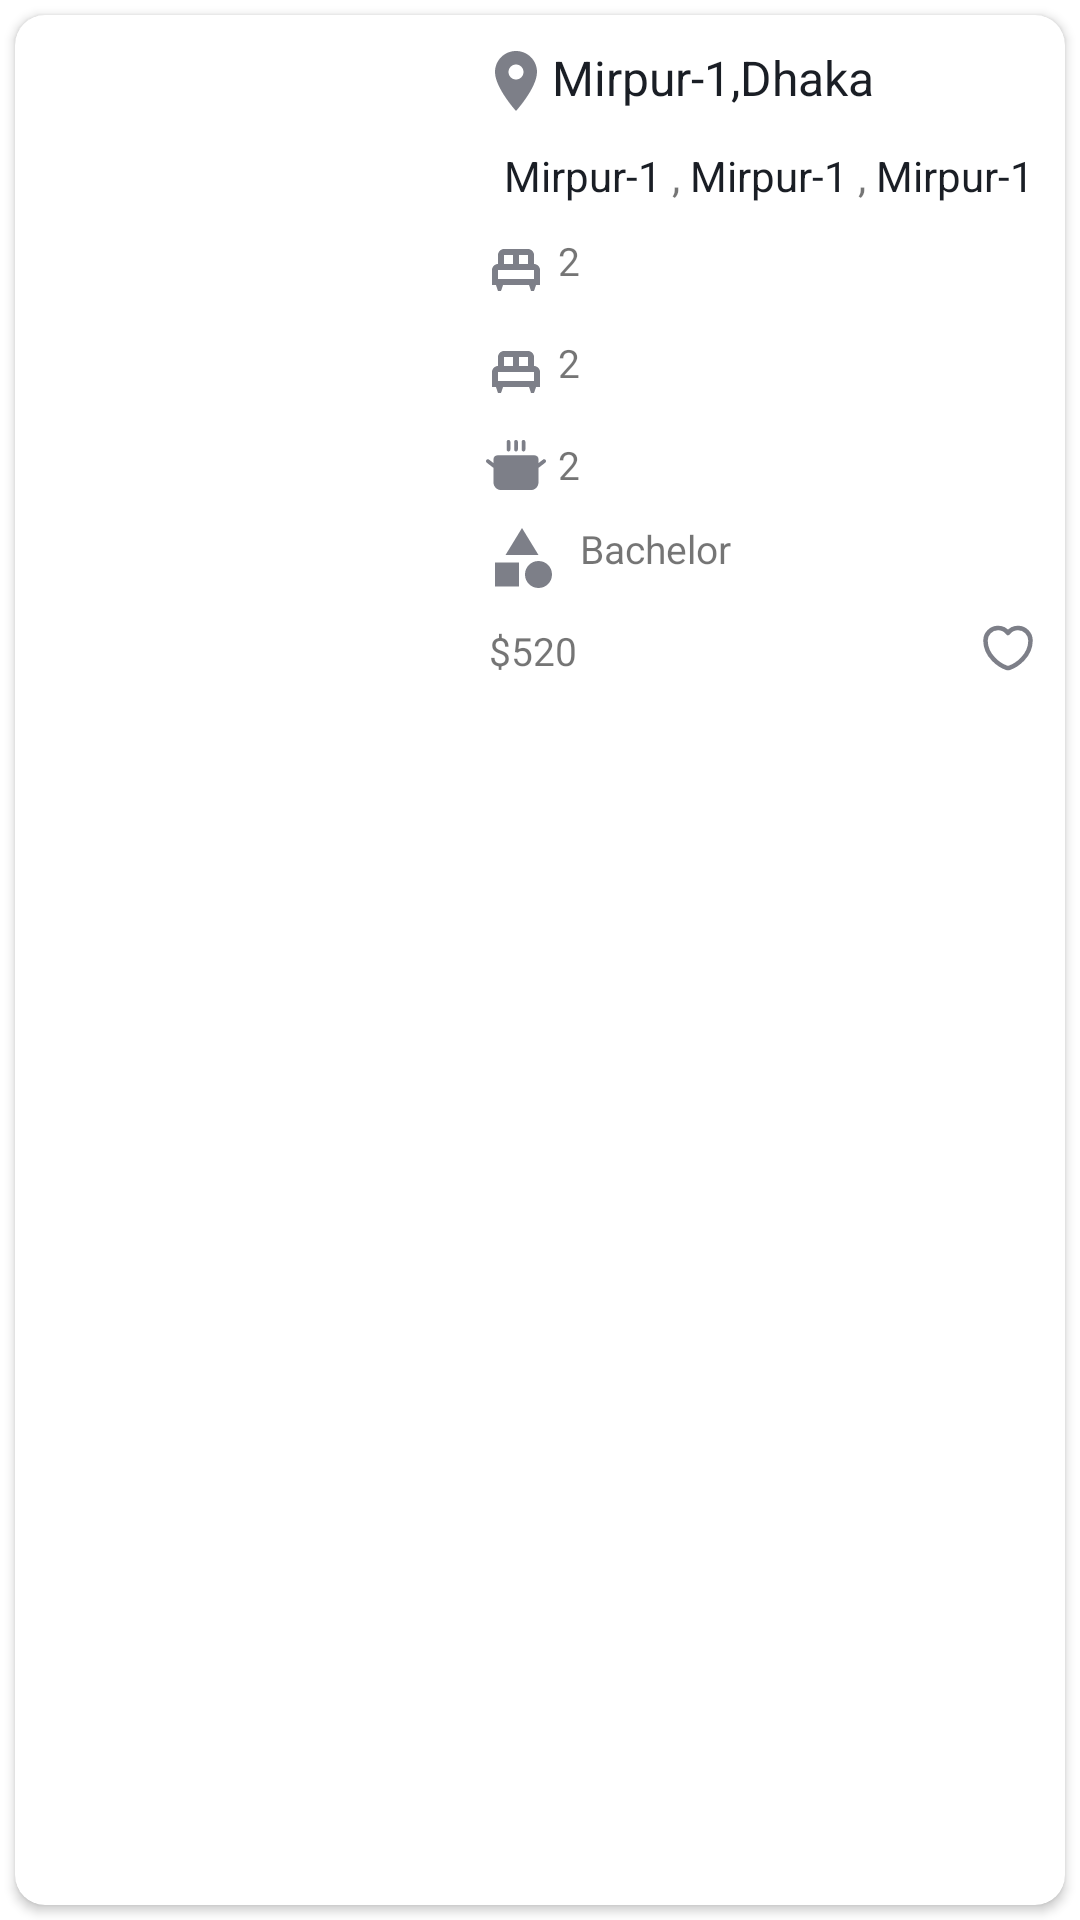

Icon bounding boxes for this 1080w x 1920h phone screenshot, format (x1, y1, x2, y2):
save: (983, 625, 1033, 671)
